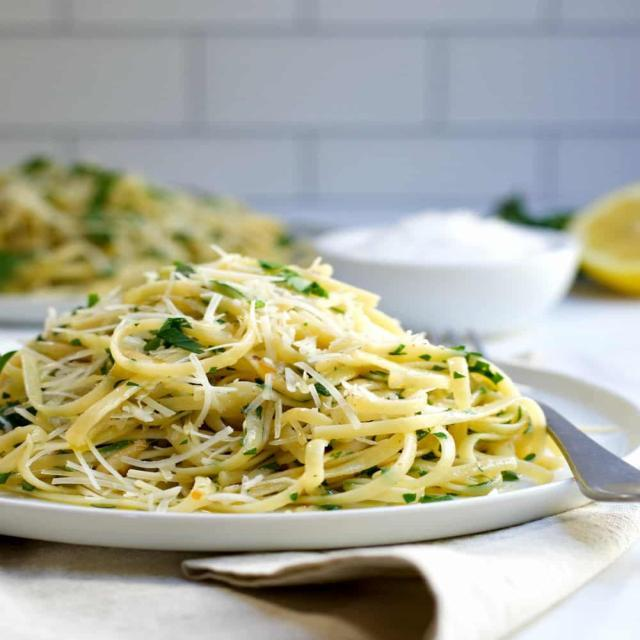Oil pasta: (2, 238, 601, 564)
